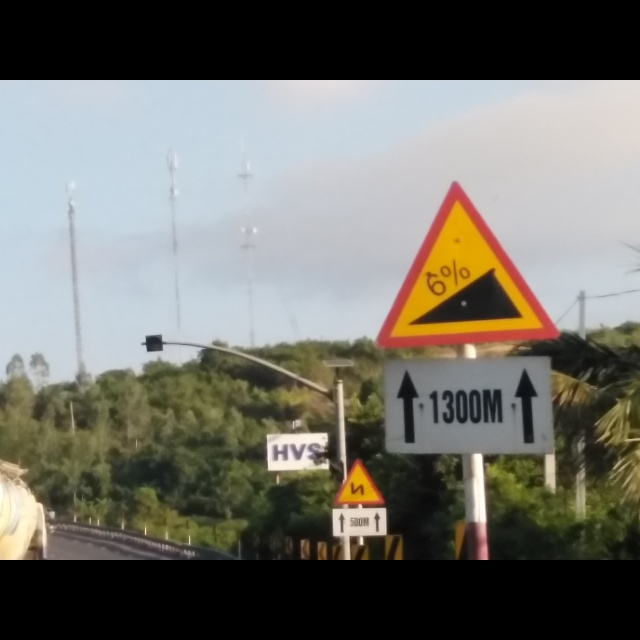Dốc lên nguy hiểm: (369, 187, 562, 347)
Ngoặt nguy hiểm liên tiếp bên phải: (334, 457, 385, 507)
